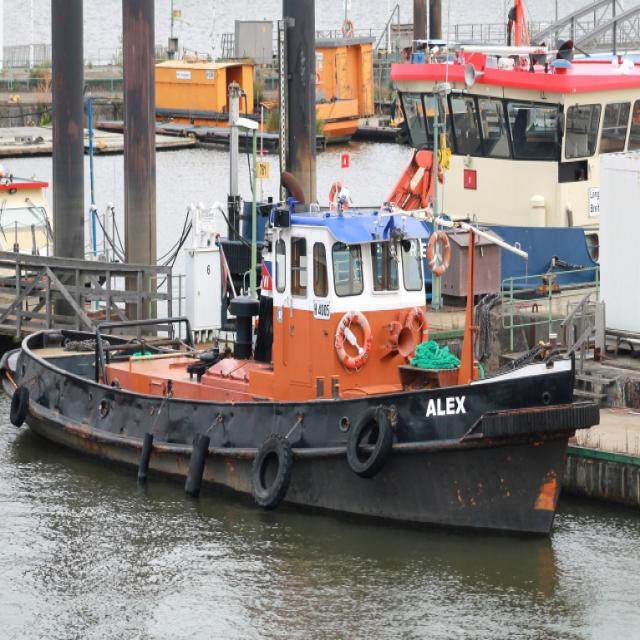tugboat: (1, 179, 603, 561)
